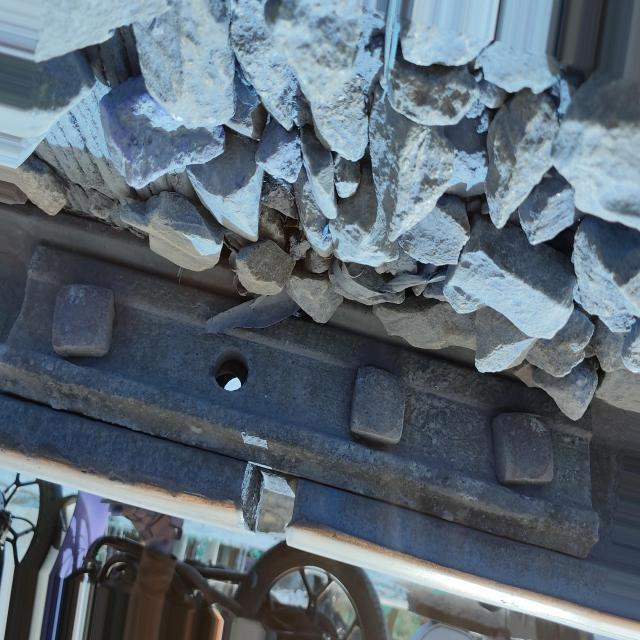Defective Joint: (0, 245, 599, 554)
